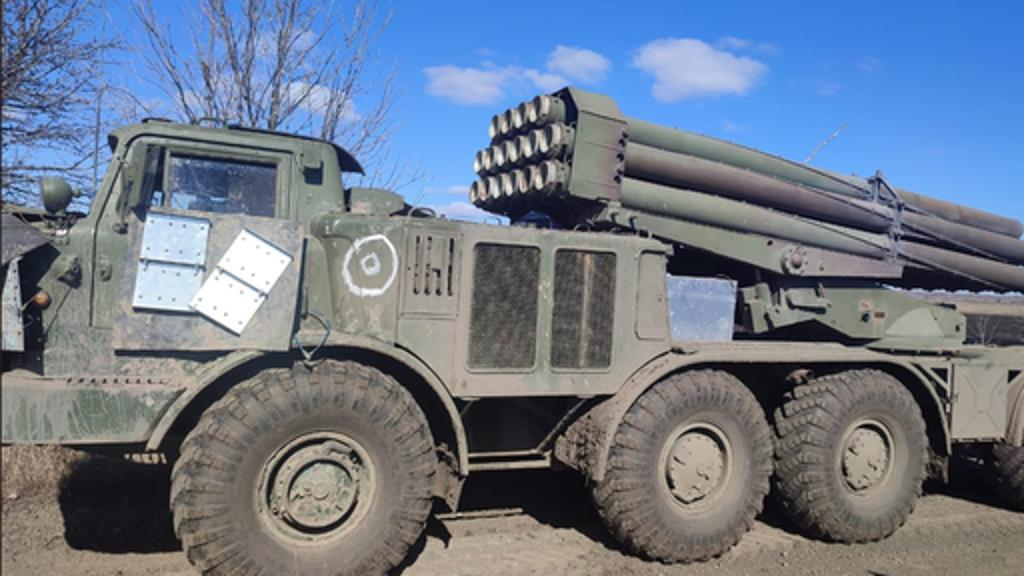MLRS: (0, 52, 1022, 572)
